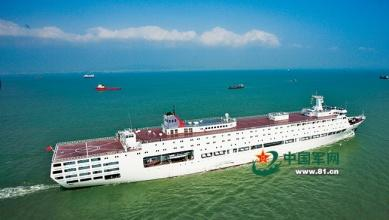Cargoship: (93, 83, 122, 92)
youlun: (46, 90, 369, 190)
